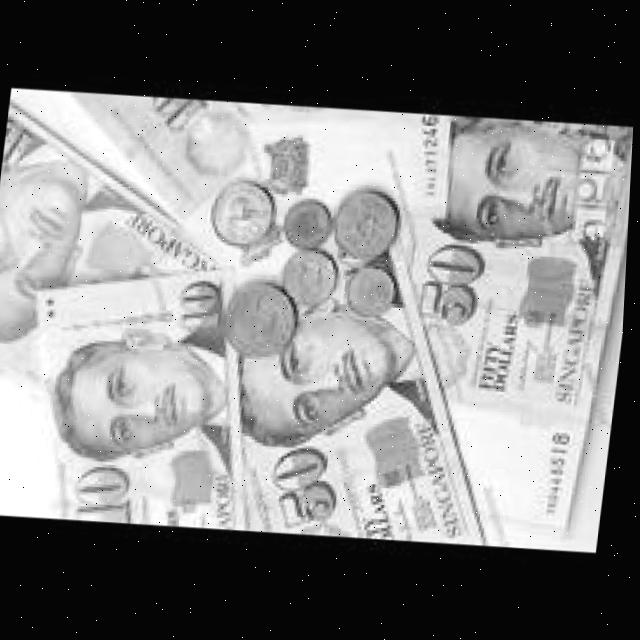banknote: (0, 80, 637, 559), (258, 441, 352, 530), (412, 230, 495, 323), (467, 304, 537, 392), (65, 463, 152, 526), (177, 268, 239, 336)
